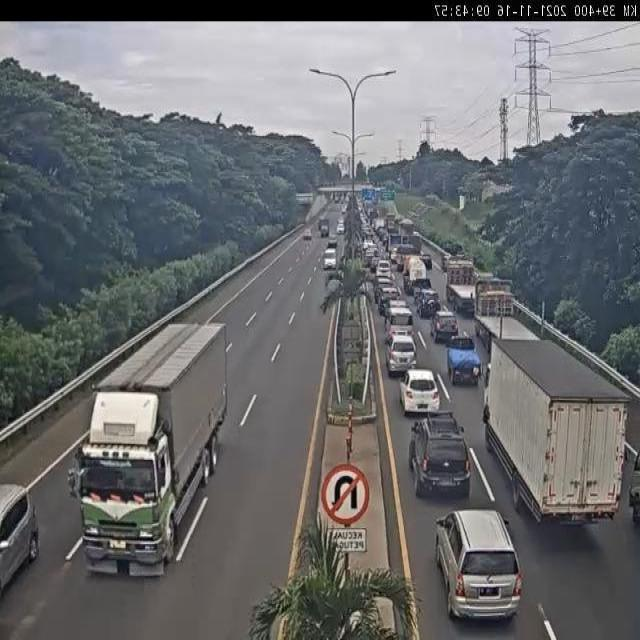Car: (434, 507, 522, 621), (408, 412, 472, 498), (399, 368, 440, 415), (444, 335, 480, 384), (385, 332, 417, 377), (430, 310, 460, 342), (385, 304, 413, 333), (414, 288, 441, 318), (378, 286, 401, 314), (323, 248, 337, 270), (376, 260, 391, 278), (419, 252, 433, 270), (389, 248, 400, 268), (368, 254, 380, 272), (362, 240, 375, 256), (362, 227, 372, 243), (327, 237, 338, 249), (303, 228, 312, 241), (336, 222, 344, 235), (341, 204, 348, 216)
Truck: (70, 324, 228, 574), (483, 334, 630, 526), (473, 276, 515, 322), (443, 257, 476, 310), (404, 256, 428, 294), (396, 232, 422, 256), (365, 269, 378, 288), (376, 225, 387, 244), (318, 218, 329, 237), (386, 214, 396, 231), (354, 242, 364, 257), (367, 208, 376, 222), (346, 193, 354, 205), (335, 196, 344, 206)
